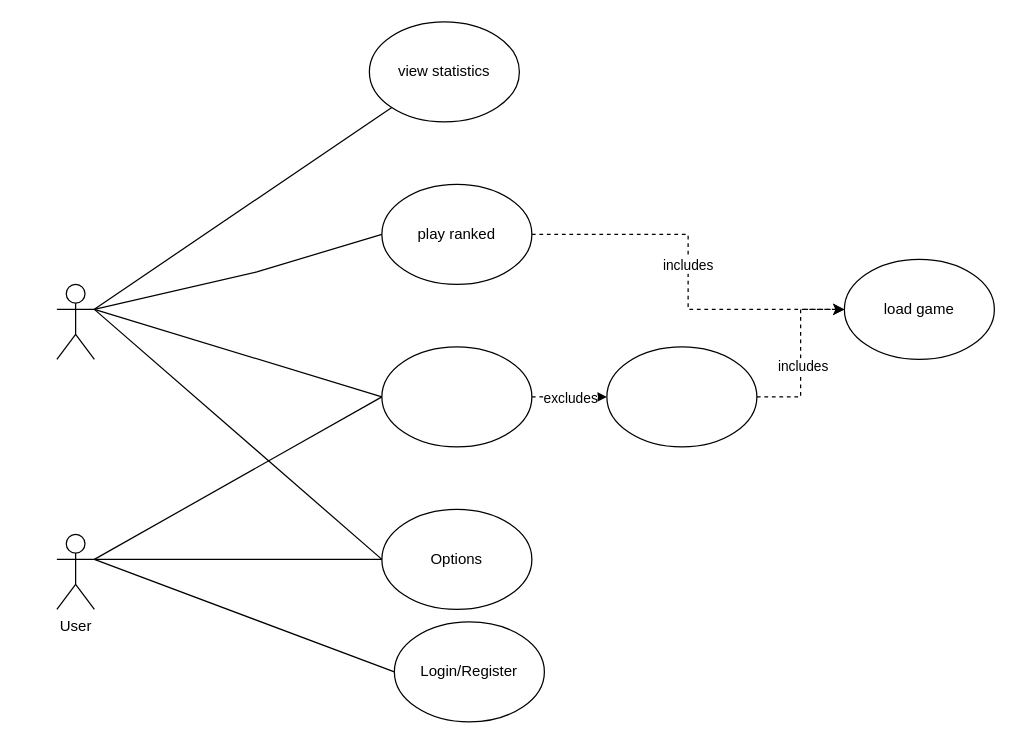
The diagram is 1016 pixels wide and 744 high, and some of its shapes have lost their labels. The centre of each missing label's shape, as x and y in pixels:
"choose difficulty" belongs at point (681, 396).
"play unranked" belongs at point (456, 396).
"Registered User" belongs at point (75, 321).
